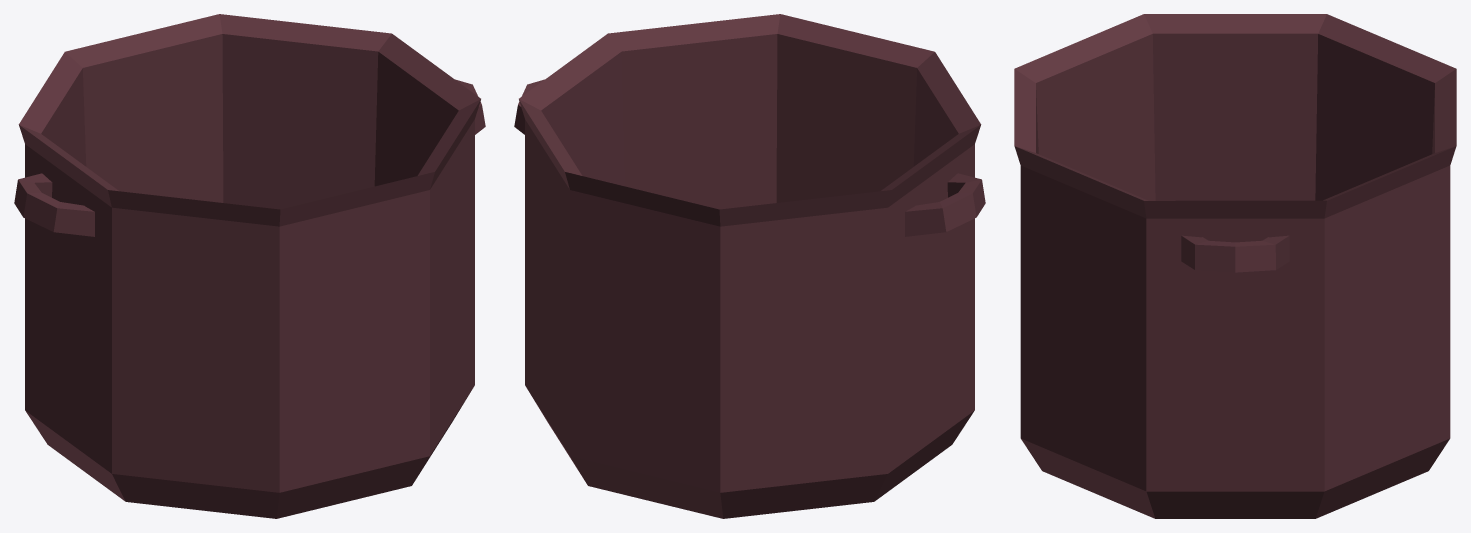
The model's file is pot-big.fbx.
The picture shows the model from 3 angles, left to right: view 1: azimuth 30°, elevation 25°; view 2: azimuth 150°, elevation 25°; view 3: azimuth 270°, elevation 25°; orthographic projection. The views are drawn at different scales.
Visible parts, largest first — view 1: pot-big; view 2: pot-big; view 3: pot-big.
Boxes of the visible parts, x1,y1,x2,y2 form: pot-big: [14, 14, 485, 518]; pot-big: [514, 14, 985, 518]; pot-big: [1014, 14, 1456, 518].
Size of the model in its own units: 0.341 by 0.2313 by 0.2809.
